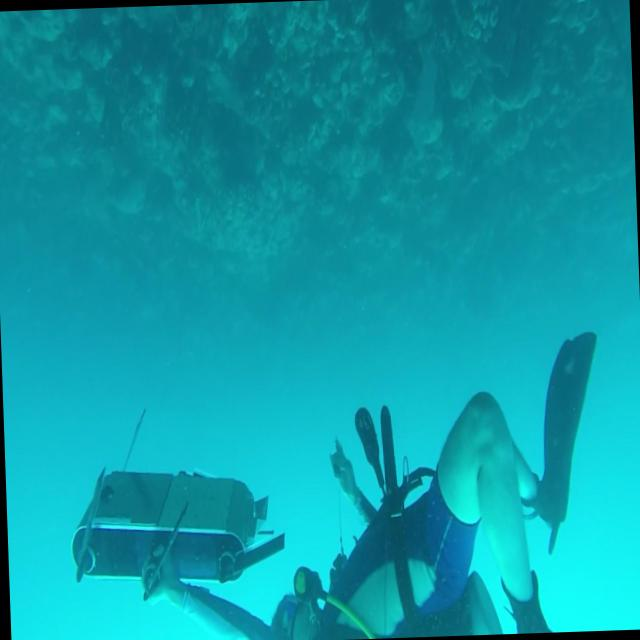human: (132, 331, 607, 640)
